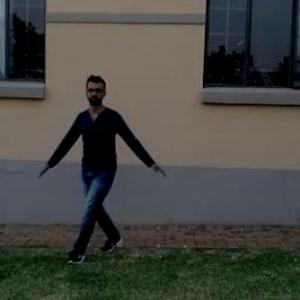land: (30, 73, 168, 255)
